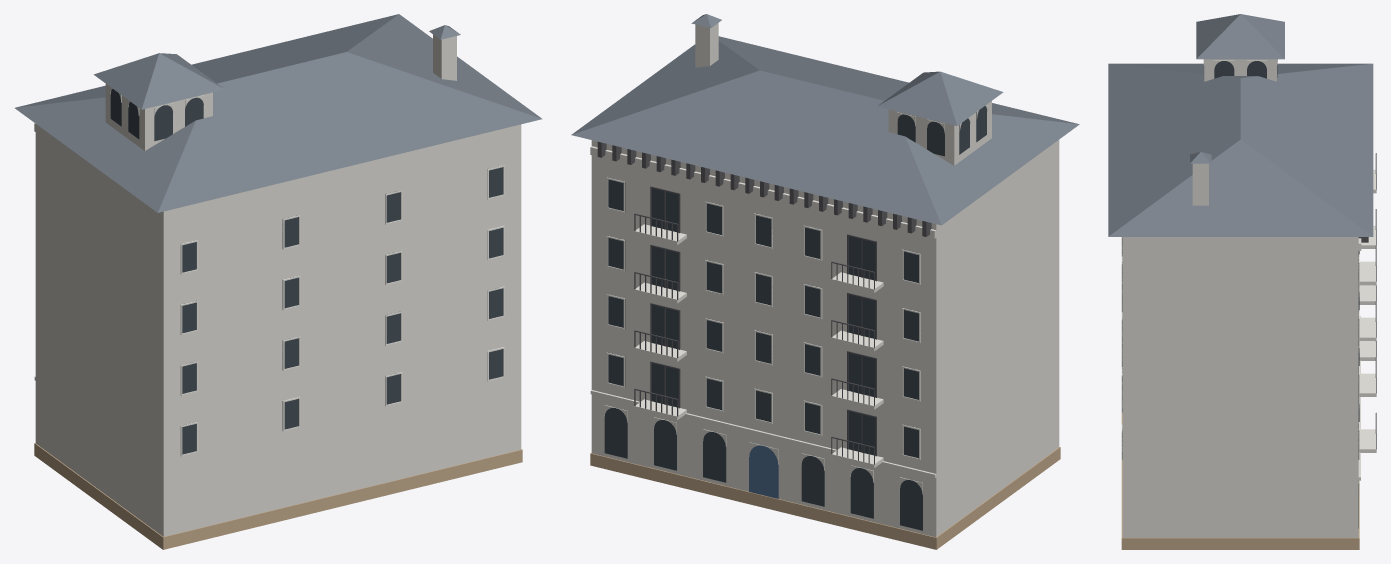
File: ca_classical5_bays.glb
The picture shows the model from 3 angles, left to right: view 1: azimuth 30°, elevation 25°; view 2: azimuth 150°, elevation 25°; view 3: azimuth 270°, elevation 25°; orthographic projection. The views are drawn at different scales.
Visible parts, largest first — view 1: ca_classical5_bays; view 2: ca_classical5_bays; view 3: ca_classical5_bays.
Part boxes in pixels (bbox=[...]): ca_classical5_bays: bbox=[15, 14, 542, 549]; ca_classical5_bays: bbox=[571, 14, 1079, 549]; ca_classical5_bays: bbox=[1108, 14, 1376, 549].
Bounding box in the file's own units: 22.6 × 24.4 × 14.8.
